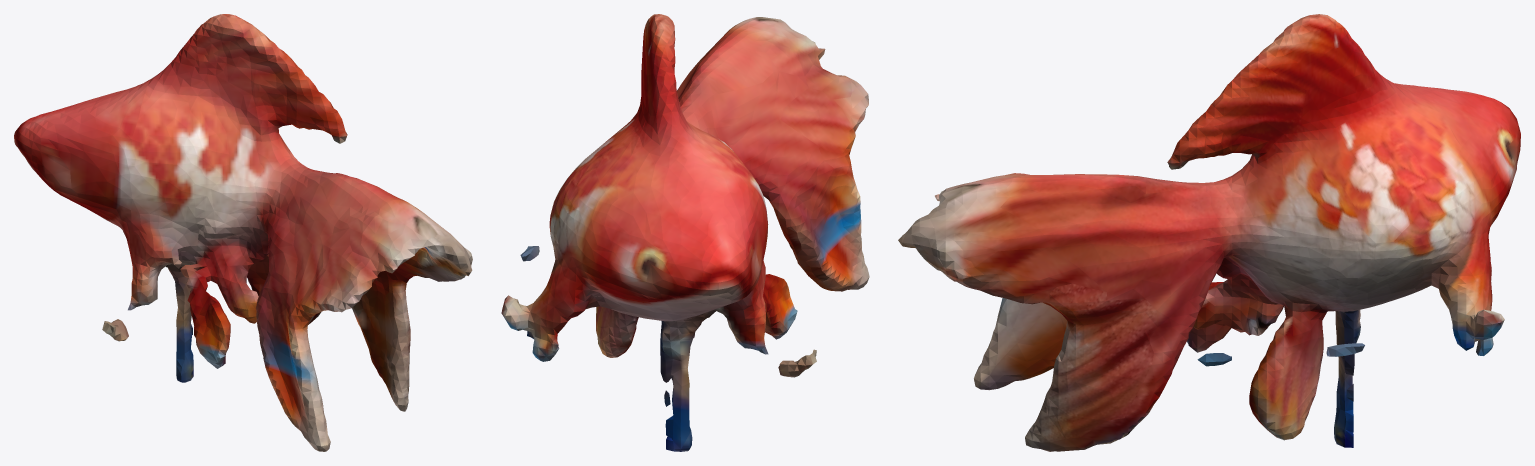
File: kingyo - コピー.fbx
The picture shows the model from 3 angles, left to right: view 1: azimuth 30°, elevation 25°; view 2: azimuth 150°, elevation 25°; view 3: azimuth 270°, elevation 25°; orthographic projection. The views are drawn at different scales.
Visible parts, largest first — view 1: mesh; view 2: mesh; view 3: mesh.
Boxes of the visible parts, x1,y1,x2,y2 form: mesh: (14, 14, 472, 451); mesh: (501, 14, 869, 451); mesh: (898, 14, 1520, 451).
Size of the model in its own units: 0.6571 by 0.848 by 1.08.
1 material, 1 textured.
